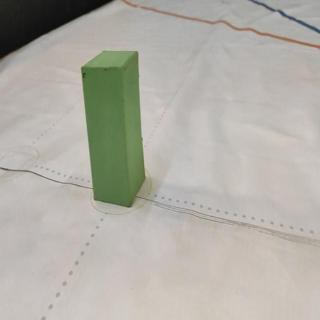greenbox: (81, 49, 147, 205)
